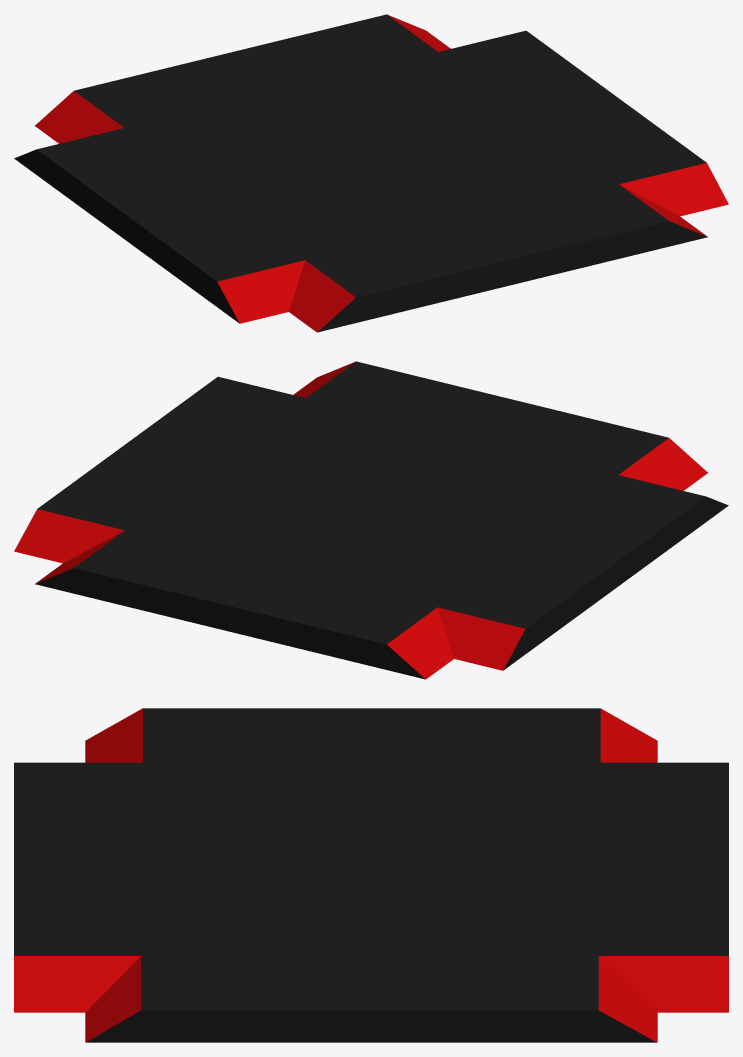
The model's file is Track.006.obj.
3 renders of one model, top to bottom at view 1: azimuth 30°, elevation 25°; view 2: azimuth 150°, elevation 25°; view 3: azimuth 270°, elevation 25°, orthographic. The views are drawn at different scales.
Parts seen in each view (by area): view 1: Track.006_Cube.002; view 2: Track.006_Cube.002; view 3: Track.006_Cube.002.
Boxes of the visible parts, bbox=[...] form: Track.006_Cube.002: bbox=[14, 14, 728, 332]; Track.006_Cube.002: bbox=[14, 361, 728, 679]; Track.006_Cube.002: bbox=[14, 708, 728, 1042].
Size of the model in its own units: 2 by 0.1 by 2.
